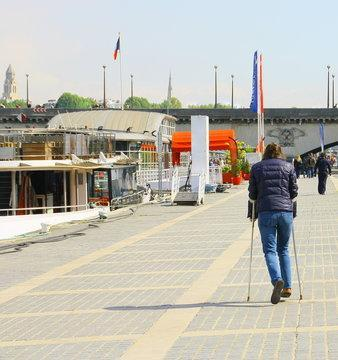crutches: (236, 136, 309, 311)
